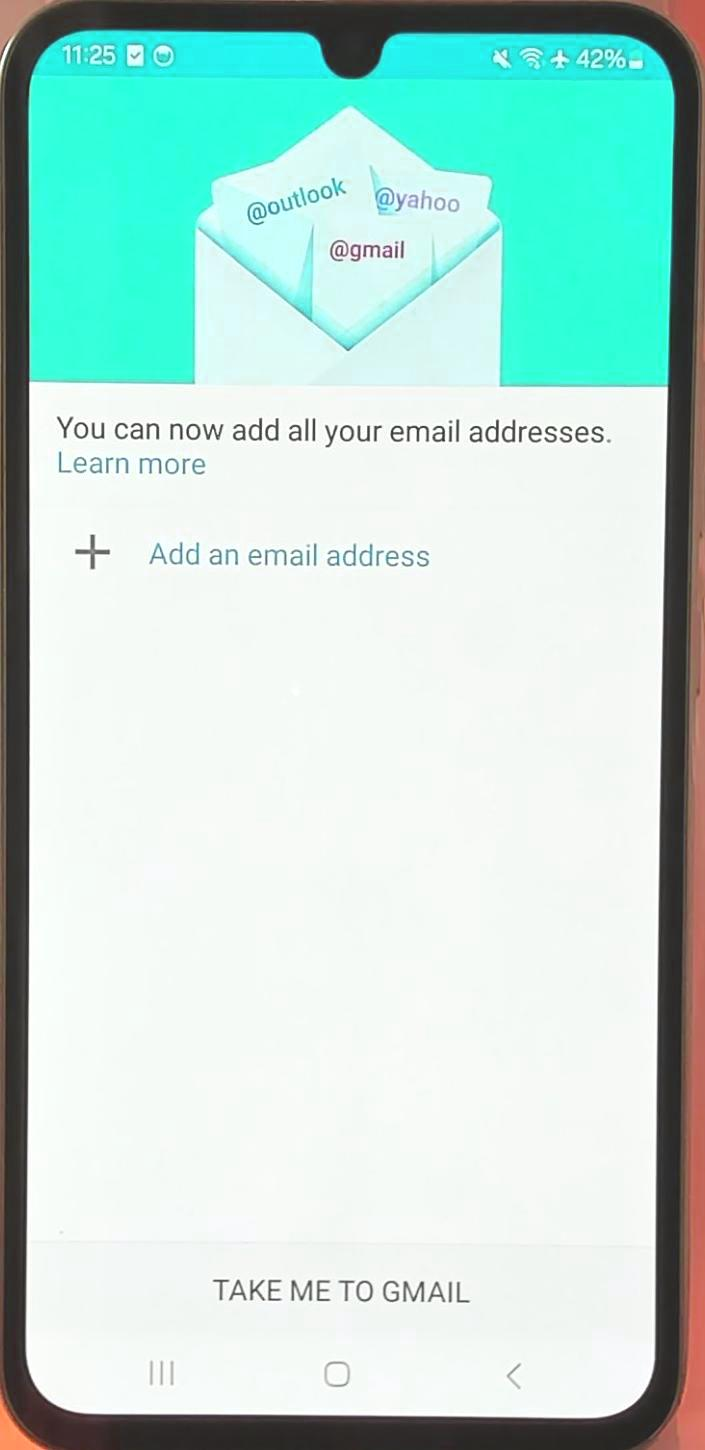CommunBotton: (28, 1233, 658, 1337), (144, 535, 439, 575), (51, 444, 218, 485), (68, 521, 117, 581), (316, 1348, 358, 1395), (500, 1352, 537, 1403), (144, 1352, 181, 1393)
